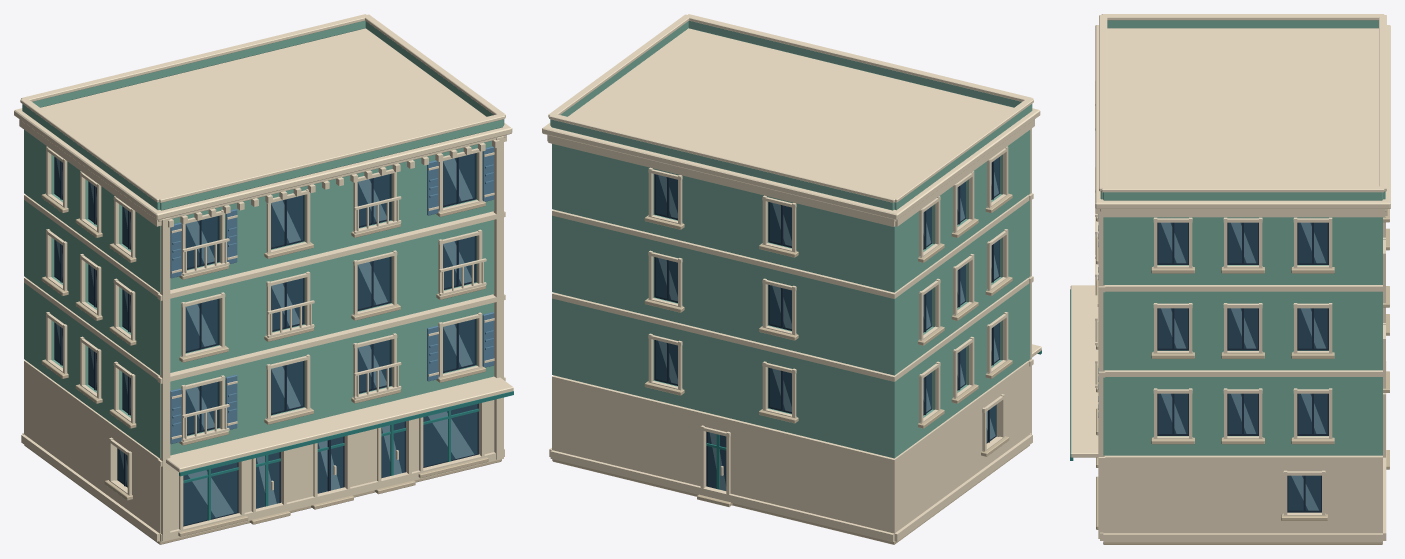
The model's file is shopfront_apartments.glb.
The picture shows the model from 3 angles, left to right: view 1: azimuth 30°, elevation 25°; view 2: azimuth 150°, elevation 25°; view 3: azimuth 270°, elevation 25°; orthographic projection. The views are drawn at different scales.
Visible parts, largest first — view 1: ShopfrontApartments_StaticMesh; view 2: ShopfrontApartments_StaticMesh; view 3: ShopfrontApartments_StaticMesh.
Boxes of the visible parts, <box> form: ShopfrontApartments_StaticMesh: <box>14,14,513,544</box>; ShopfrontApartments_StaticMesh: <box>542,14,1041,544</box>; ShopfrontApartments_StaticMesh: <box>1070,14,1390,544</box>.
Size of the model in its own units: 13.92 by 12.98 by 10.55.
